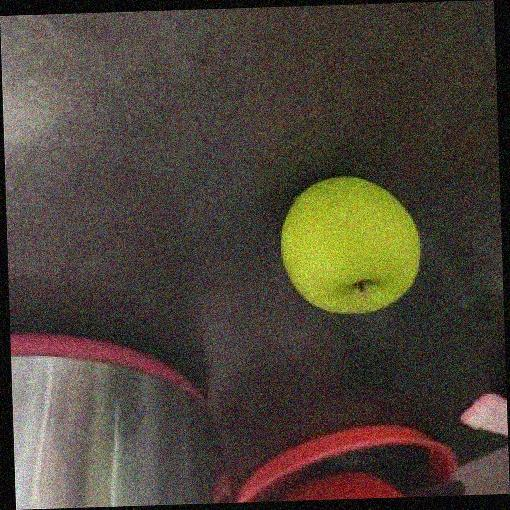green apple: (277, 174, 423, 316)
